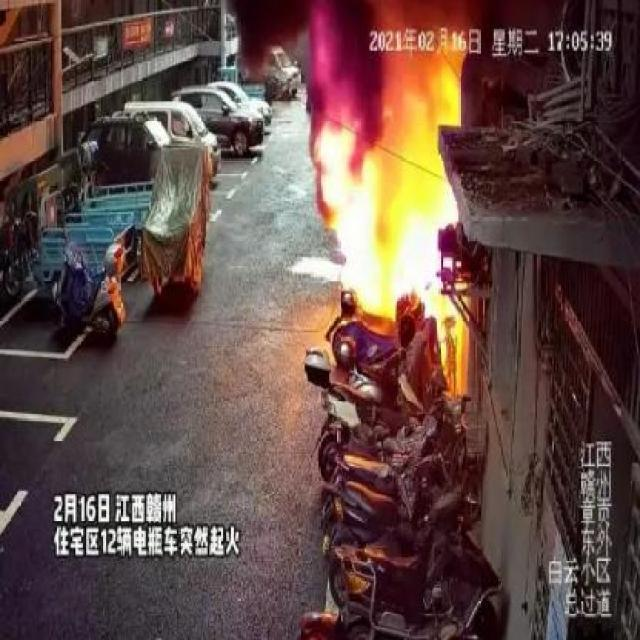Fire: (316, 106, 455, 322)
Smoke: (298, 0, 390, 160)
